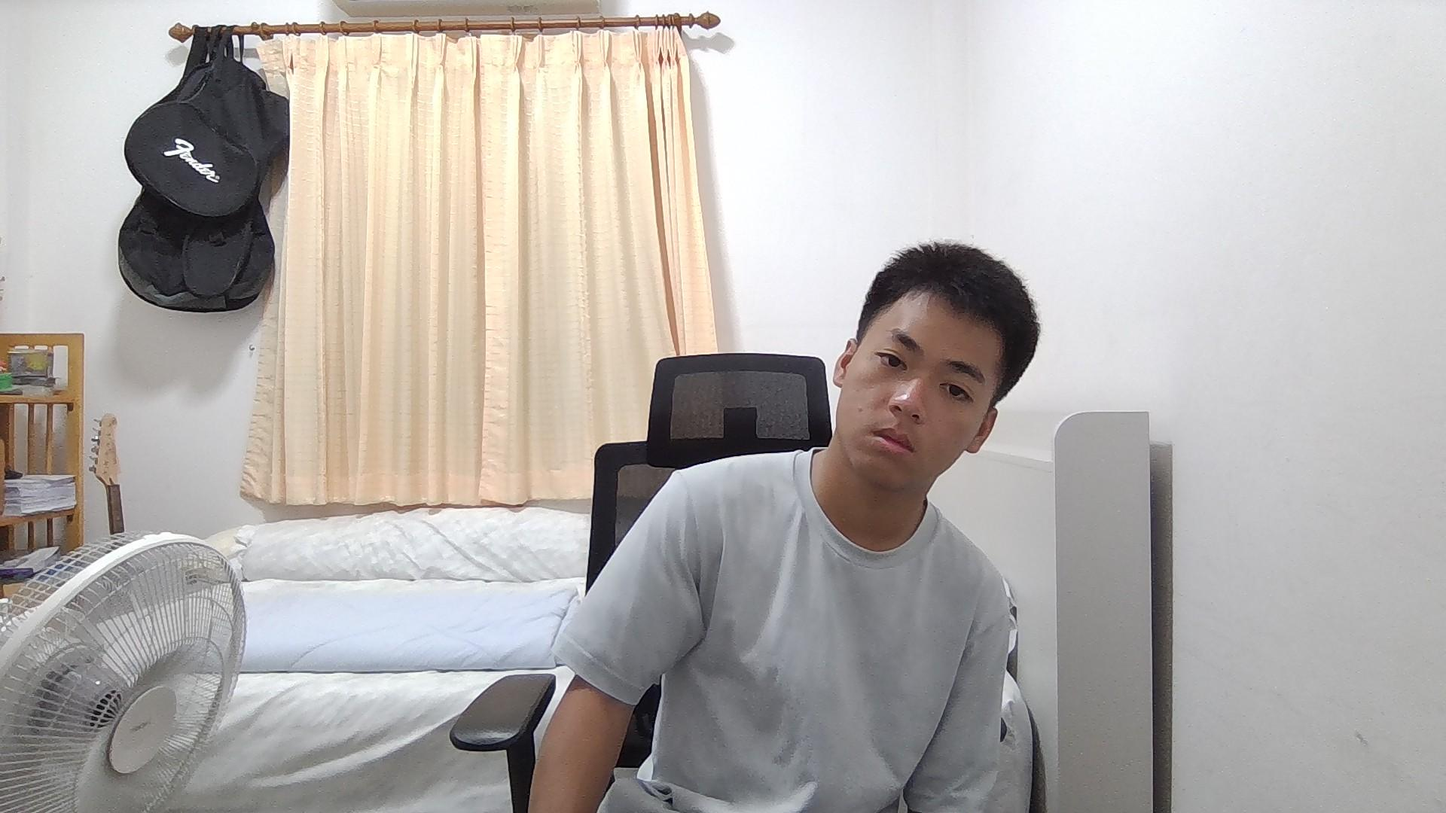BadPosture: (532, 244, 1037, 812)
